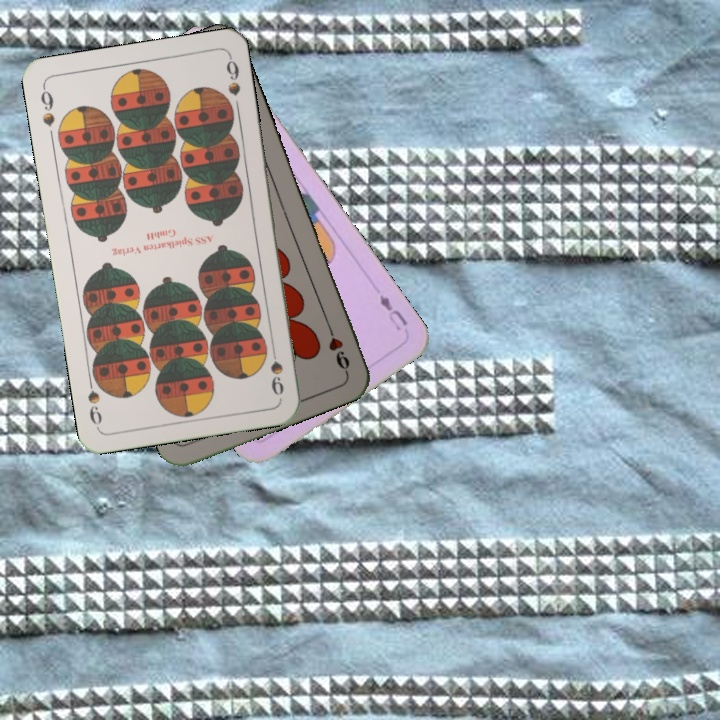EU: (375, 290, 410, 333)
H9: (322, 318, 353, 376)
S9: (266, 340, 287, 398), (36, 82, 58, 129)
